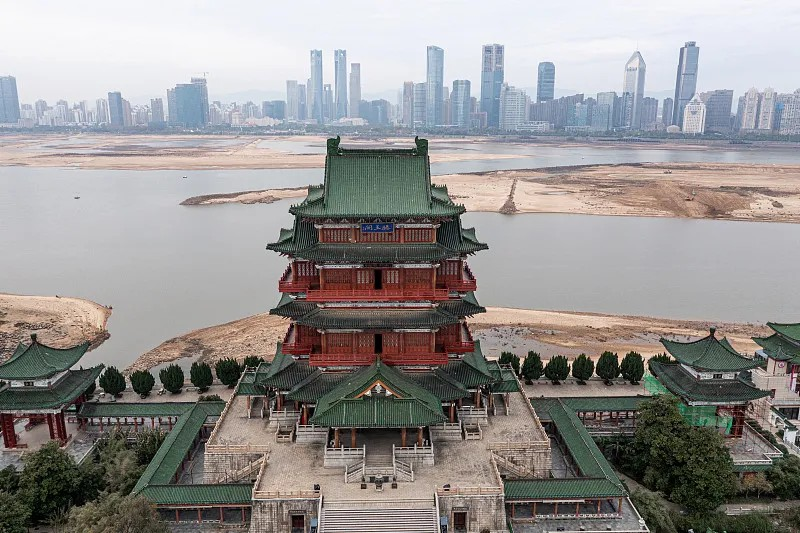Teng: (236, 135, 523, 447)
